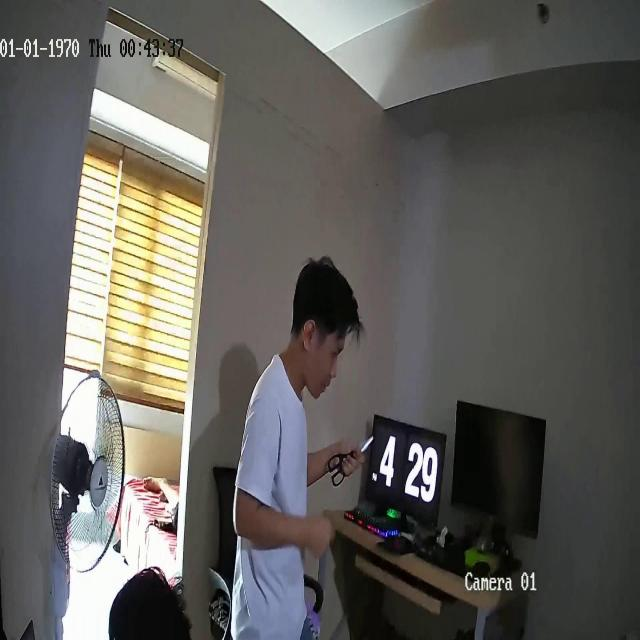scissor: (328, 437, 373, 488)
